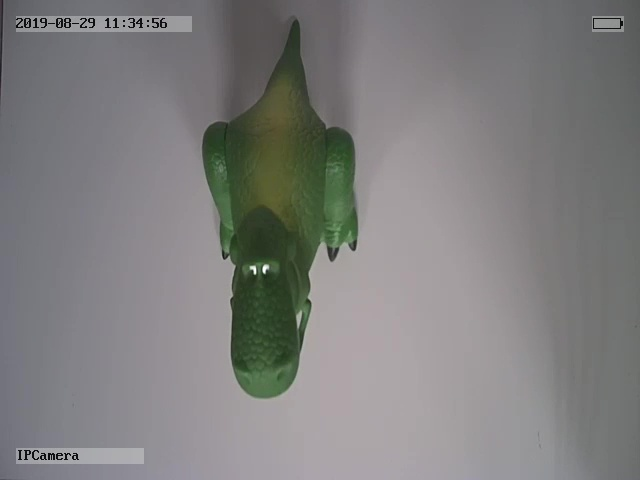rex: (202, 21, 359, 401)
